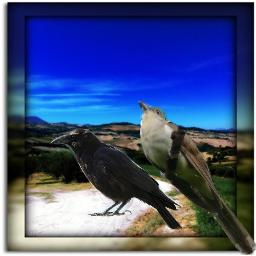Crow: (51, 128, 183, 230)
Cuckoo: (138, 101, 256, 255)
